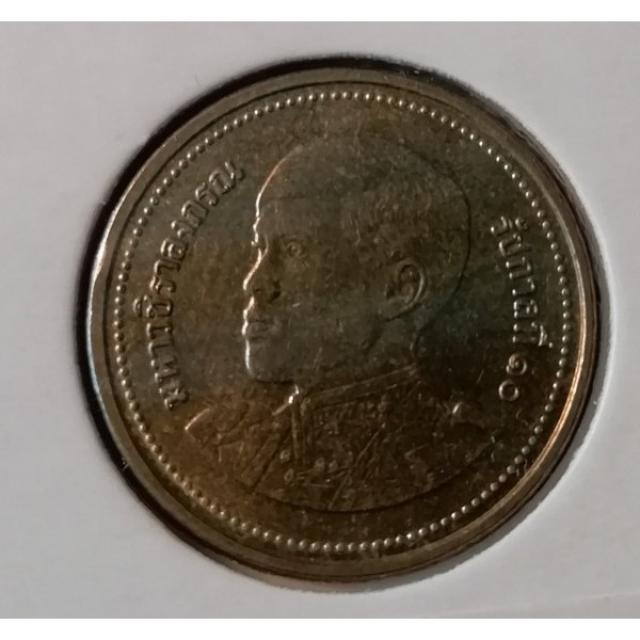2 Bath: (69, 58, 615, 591)
